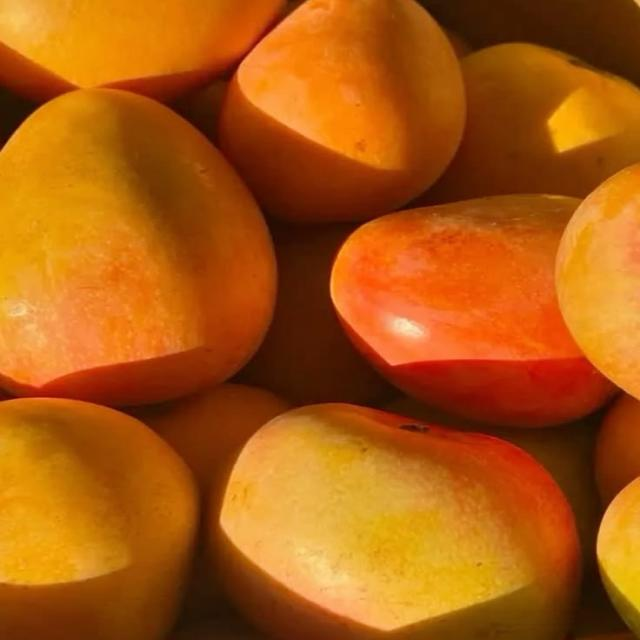mango: (208, 403, 581, 639), (0, 88, 276, 406), (330, 194, 615, 426), (218, 0, 465, 223), (0, 399, 198, 639), (421, 42, 639, 203), (0, 0, 284, 100)
